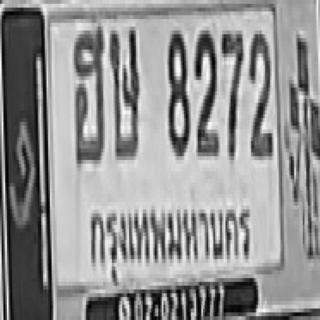A39: (108, 25, 138, 158)
A44: (72, 25, 103, 162)
N02: (193, 29, 217, 154), (249, 30, 271, 156)
N07: (220, 27, 243, 156)
N08: (167, 27, 189, 152)
P04: (86, 192, 255, 276)
